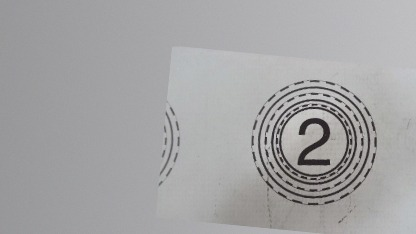2r: (241, 75, 381, 210)
